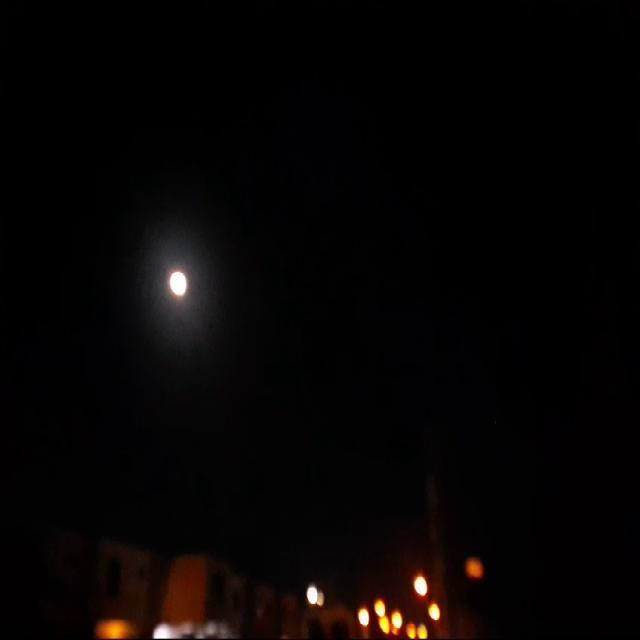moon: (169, 265, 190, 301)
